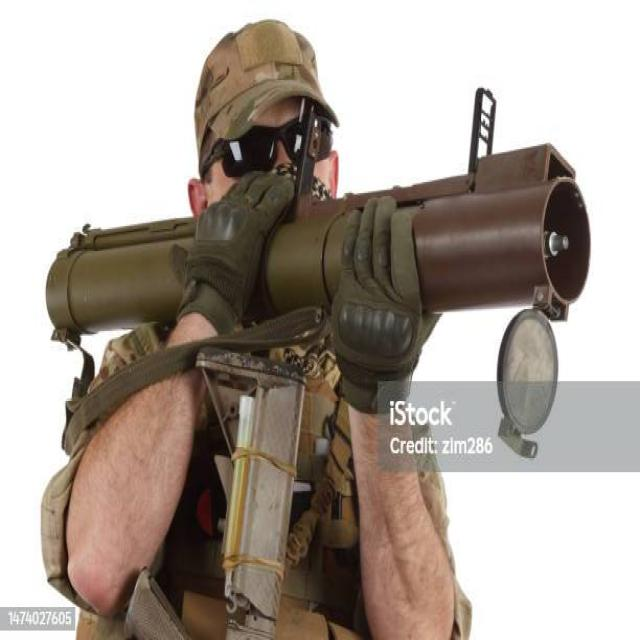bazooka: (51, 88, 593, 373)
